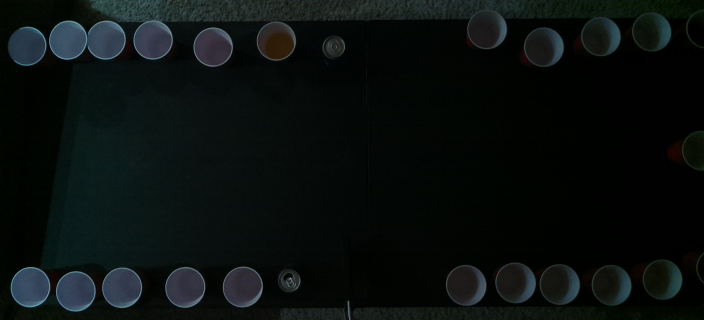active bp cup: (680, 129, 703, 172)
can: (275, 266, 301, 295), (320, 33, 346, 59)
drink cup: (254, 20, 298, 62), (684, 9, 703, 54), (694, 251, 703, 288)
inactive bp cup: (463, 6, 509, 51), (99, 265, 143, 309), (577, 14, 622, 57), (163, 265, 207, 308), (493, 262, 537, 305), (521, 26, 566, 68), (539, 260, 581, 304), (9, 264, 51, 308), (442, 265, 488, 305), (54, 270, 97, 312), (221, 266, 264, 308), (590, 263, 632, 306), (641, 257, 684, 299), (84, 21, 128, 61), (4, 26, 48, 66), (629, 13, 672, 52), (190, 27, 234, 65), (46, 19, 87, 59), (130, 23, 174, 60)
